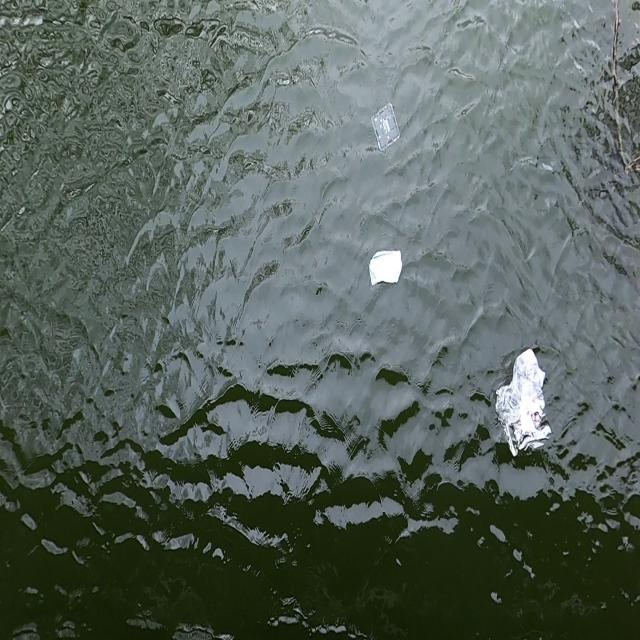Autre plastique: (368, 97, 402, 163)
Sac plastique: (491, 343, 558, 463)
